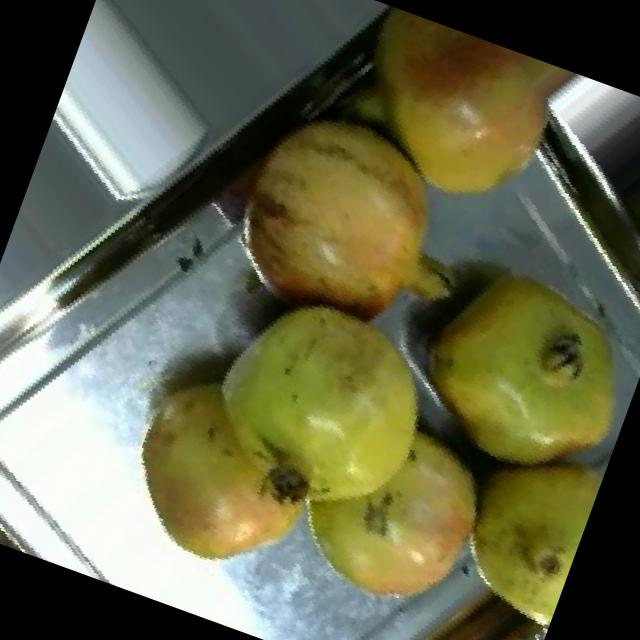fruit: (166, 42, 524, 390), (173, 242, 492, 562), (357, 198, 640, 519), (235, 361, 541, 640), (77, 336, 366, 620), (300, 0, 609, 263)
